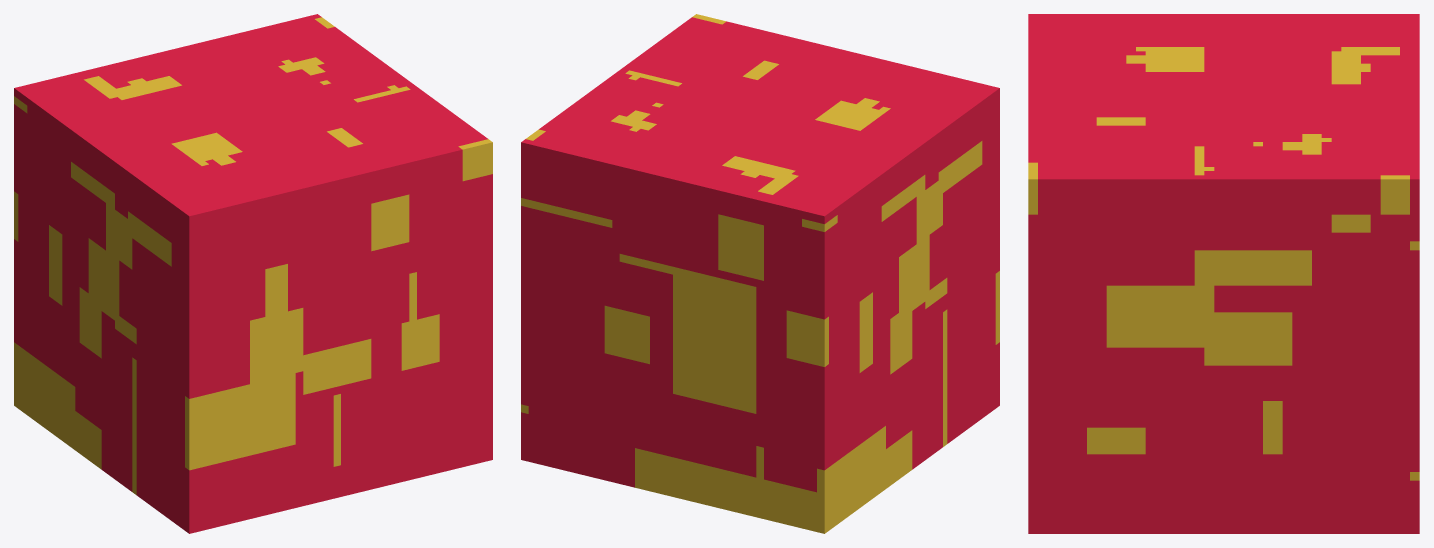
Rendered from simple_cube.obj.
The picture shows the model from 3 angles, left to right: view 1: azimuth 30°, elevation 25°; view 2: azimuth 150°, elevation 25°; view 3: azimuth 270°, elevation 25°; orthographic projection. The views are drawn at different scales.
Size of the model in its own units: 4 by 4 by 4.
Materials: 1 (1 with a texture image).
